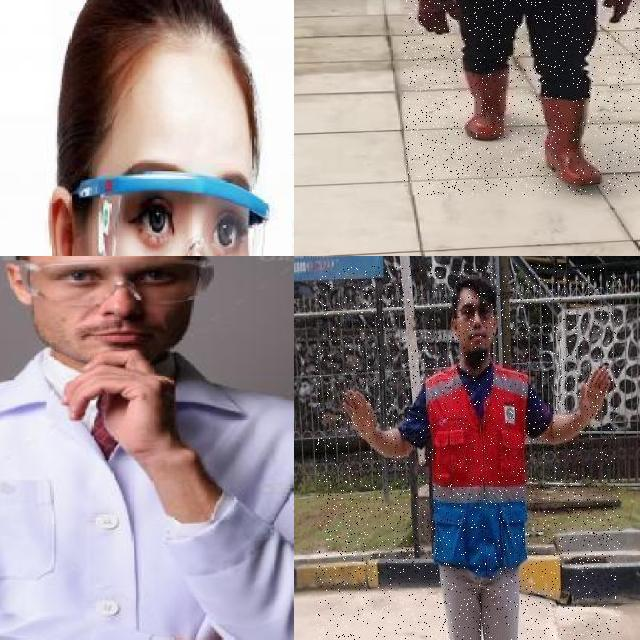boots: (540, 95, 604, 186), (464, 68, 510, 140)
face_nomask: (51, 256, 177, 352), (112, 173, 254, 256)
glasses: (65, 168, 268, 256), (3, 256, 224, 306)
hand_noglove: (62, 342, 167, 441)
head_nohelmet: (46, 0, 260, 116)
person: (316, 265, 620, 640), (0, 256, 294, 640), (404, 0, 640, 195)
vest: (422, 359, 532, 568)
